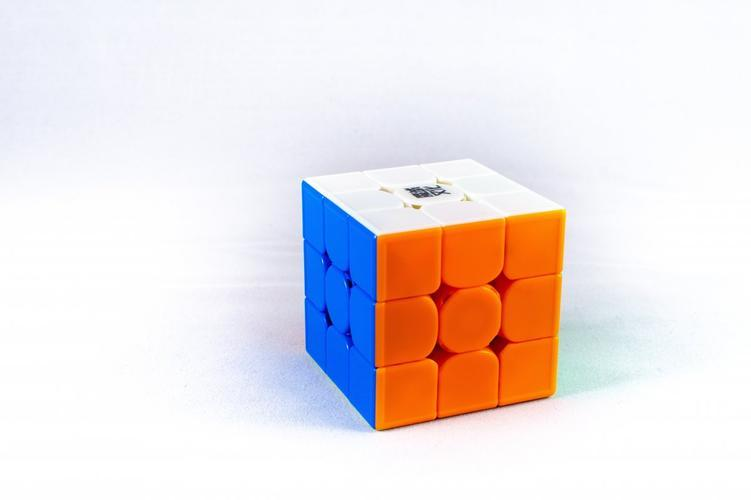cube: (275, 136, 603, 445)
